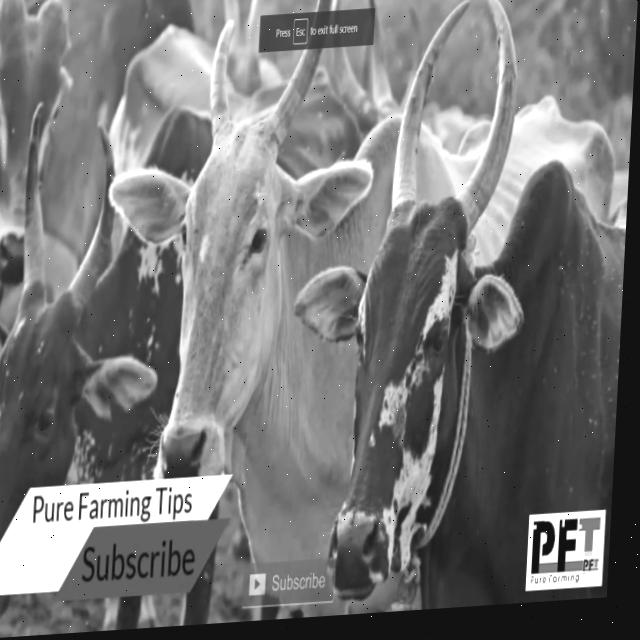Cow: (279, 0, 638, 616)
